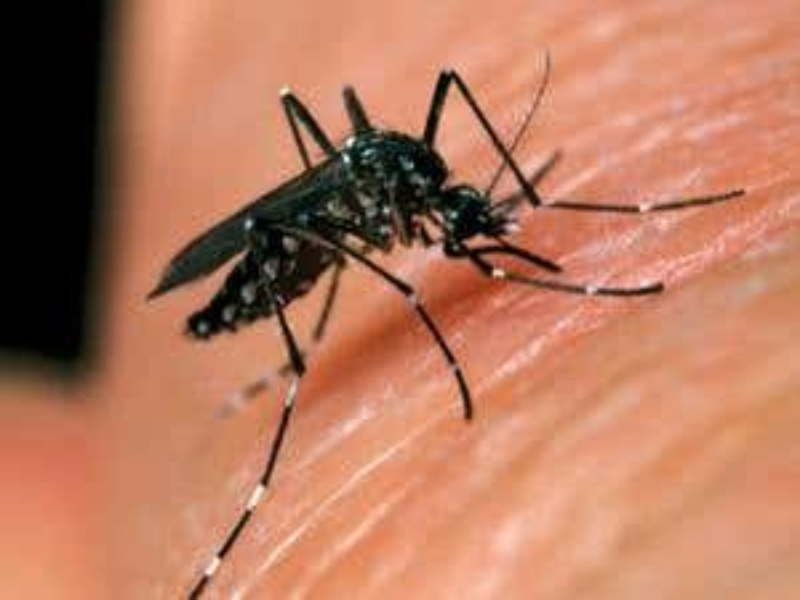dengue_mosquito: (145, 51, 643, 339)
